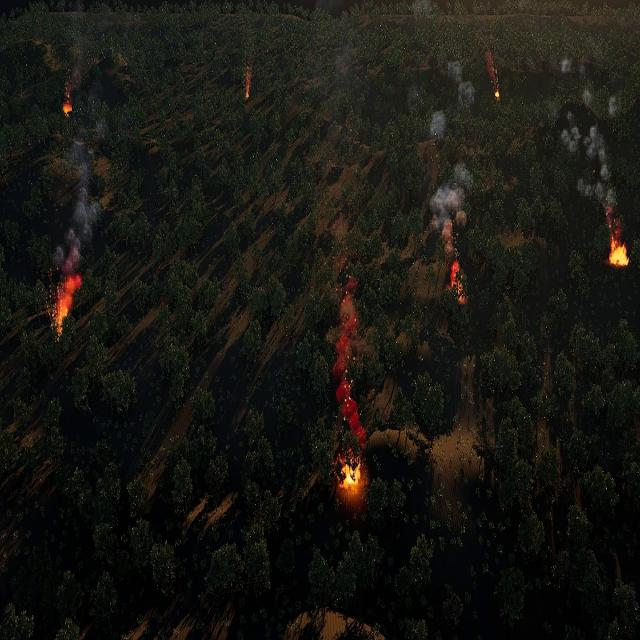fire: (54, 274, 81, 332), (340, 459, 363, 493), (450, 263, 465, 303), (611, 238, 630, 266), (64, 101, 73, 115), (244, 76, 249, 98), (494, 89, 500, 101)
smoke: (561, 112, 620, 218), (53, 139, 99, 272), (333, 279, 367, 445), (428, 165, 470, 258), (66, 50, 84, 91), (606, 208, 625, 238), (428, 110, 446, 140), (457, 80, 475, 106), (449, 60, 467, 79), (410, 0, 434, 14), (607, 95, 619, 117), (487, 51, 496, 80), (559, 57, 573, 75), (245, 54, 254, 78), (583, 88, 594, 107)
